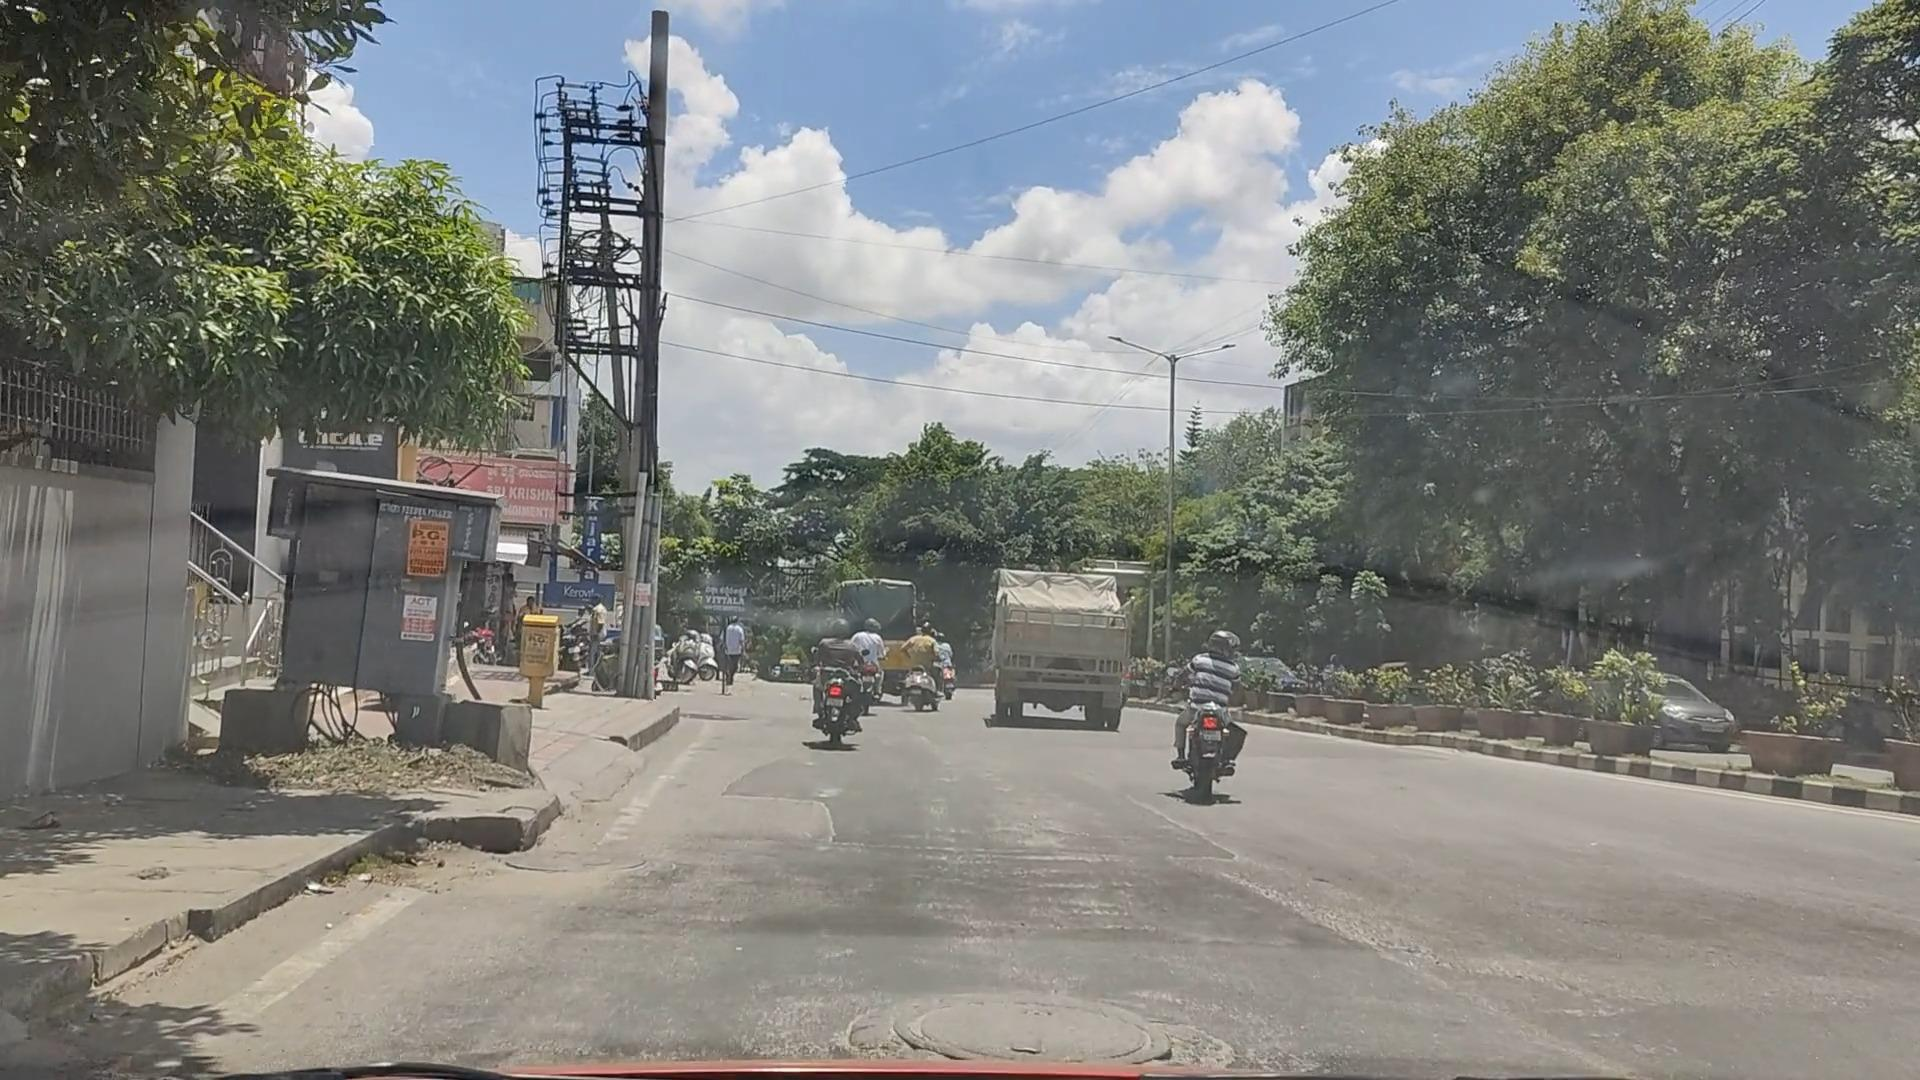HMV: (986, 574, 1151, 748), (849, 585, 948, 717)
RoadDamages: (818, 982, 1261, 1080), (502, 832, 674, 901)
